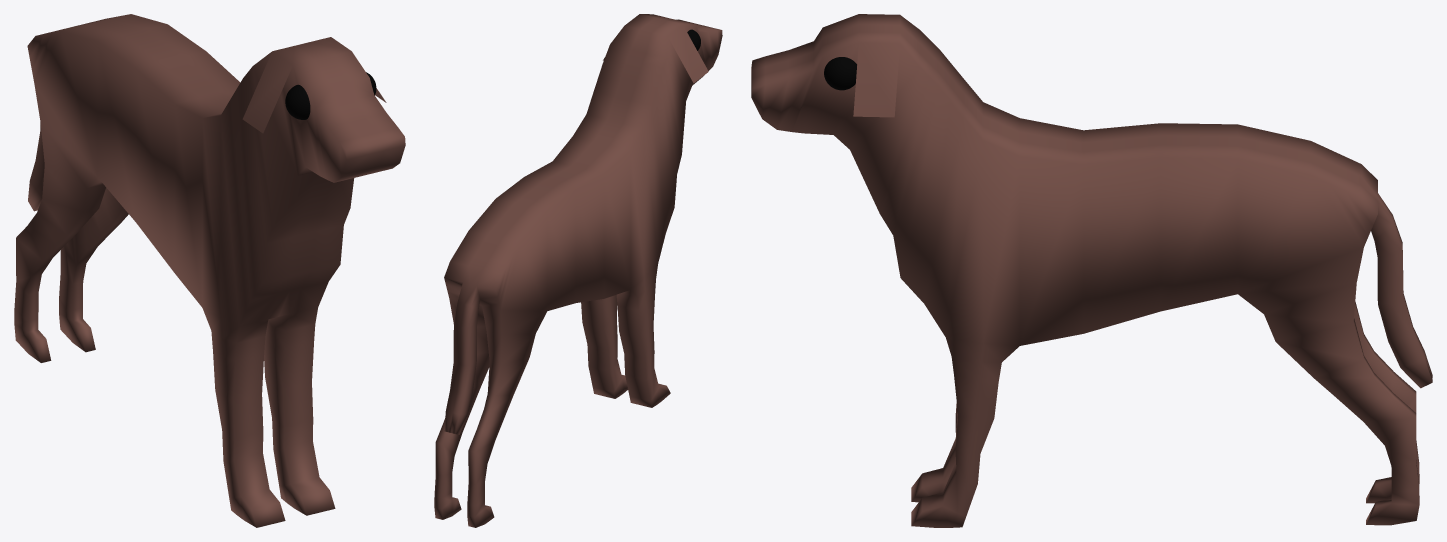
The model's file is dawg.fbx.
The picture shows the model from 3 angles, left to right: view 1: azimuth 30°, elevation 25°; view 2: azimuth 150°, elevation 25°; view 3: azimuth 270°, elevation 25°; orthographic projection. The views are drawn at different scales.
Visible parts, largest first — view 1: dawg; view 2: dawg; view 3: dawg.
Boxes of the visible parts, bbox=[...] form: dawg: bbox=[14, 14, 405, 527]; dawg: bbox=[434, 14, 722, 527]; dawg: bbox=[751, 14, 1432, 527].
Size of the model in its own units: 88.08 by 329 by 420.
